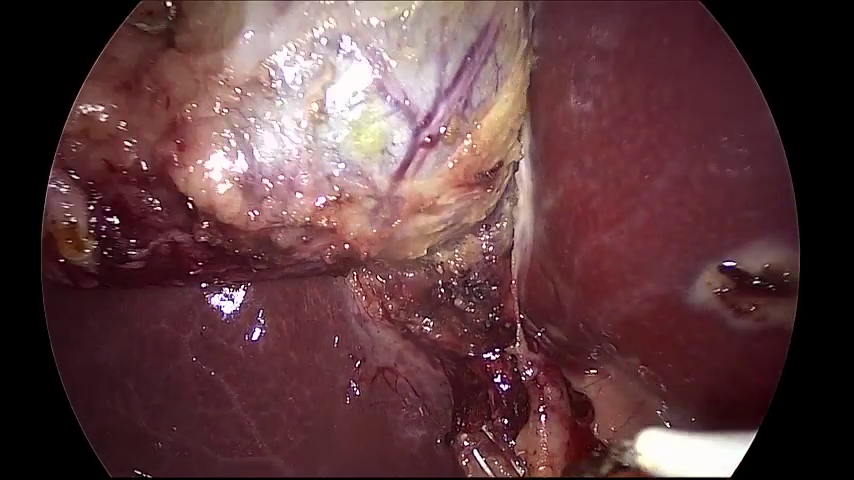lhook: (600, 428, 755, 478)
